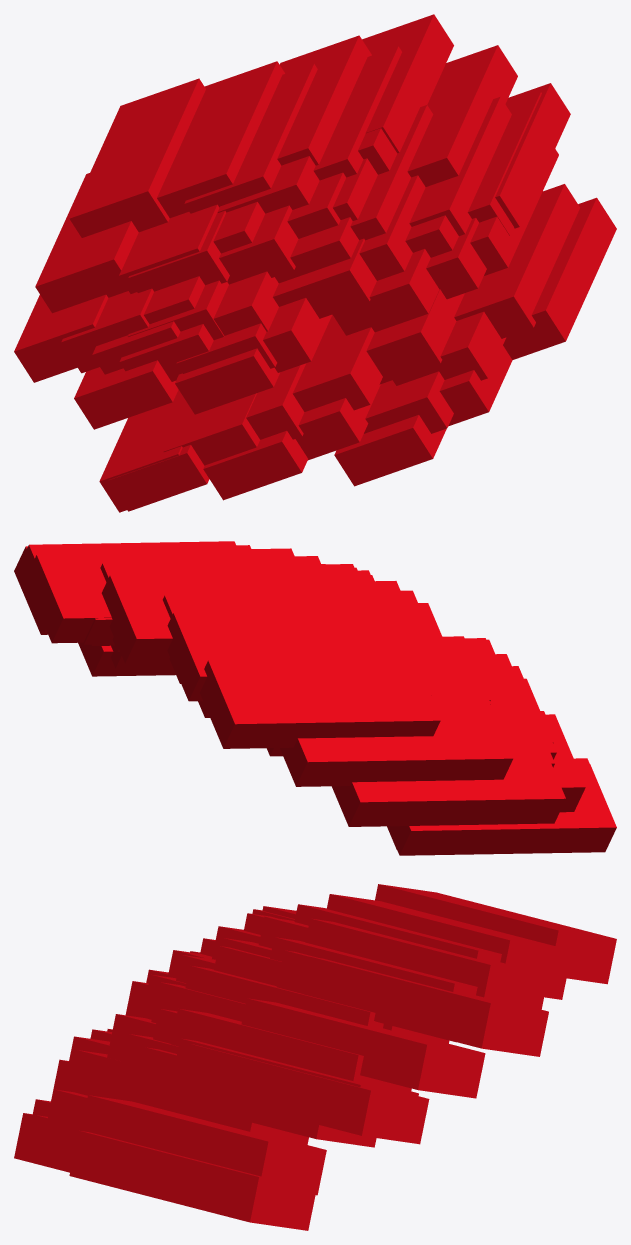
The model's file is RED.glb.
3 views of the same model, one above another, from view 1: azimuth 30°, elevation 25°; view 2: azimuth 150°, elevation 25°; view 3: azimuth 270°, elevation 25° (orthographic). The views are drawn at different scales.
Visible parts, largest first — view 1: Instance Child on Parent; view 2: Instance Child on Parent; view 3: Instance Child on Parent.
Boxes of the visible parts, bbox=[...] form: Instance Child on Parent: bbox=[14, 14, 616, 512]; Instance Child on Parent: bbox=[14, 541, 616, 855]; Instance Child on Parent: bbox=[14, 884, 616, 1230].
Bounding box in the file's own units: 17.4 × 8.66 × 14.28.
